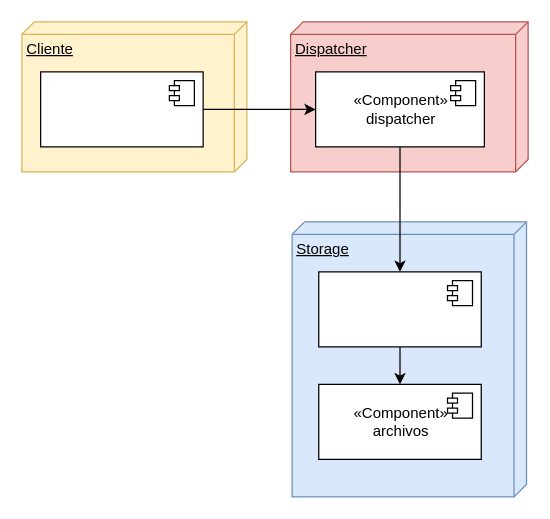
The diagram is 550 pixels wide and 519 high, and some of its shapes have lost their labels. Here are the shapes that lost their labels. From the top down, the centre of each, then its label:
At pixel 121 109: "«Component» client".
At pixel 399 309: "«Component» storage".
